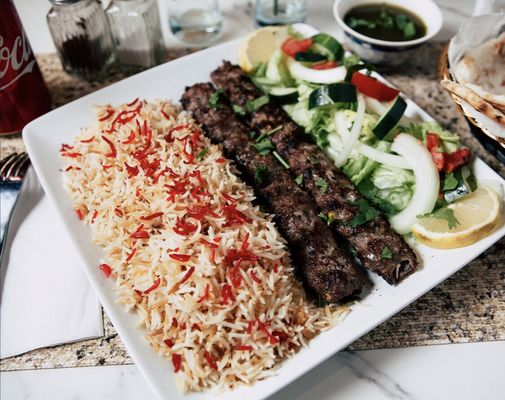pizza: (158, 1, 225, 50)
sushi: (331, 1, 444, 70)
